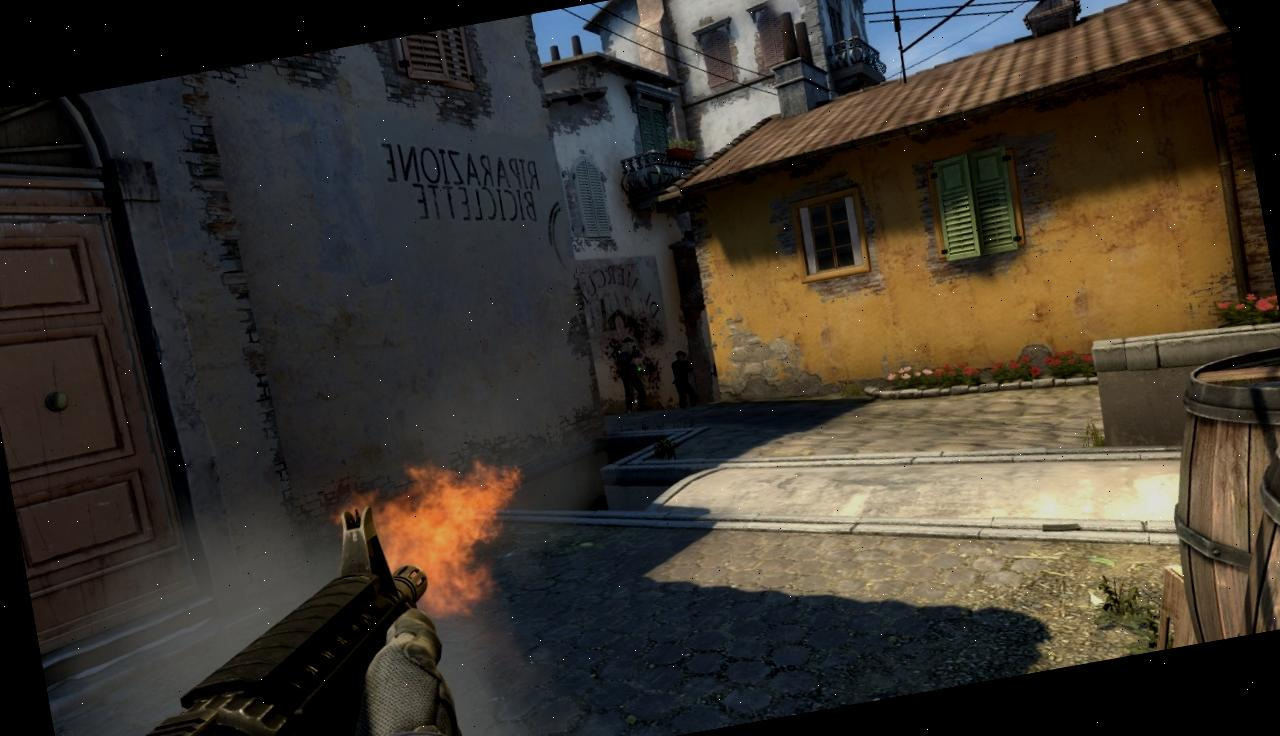rifle: (24, 486, 485, 736)
tt: (612, 335, 654, 414), (668, 349, 701, 410)
tthead: (622, 336, 635, 350), (674, 350, 686, 362)
